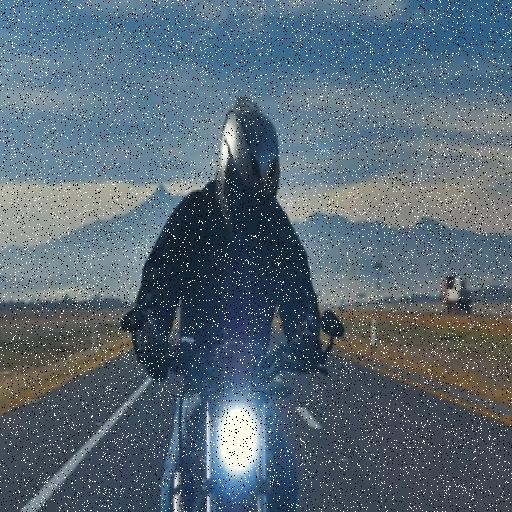Helmet: (202, 82, 290, 257)
Motor: (106, 282, 334, 512)
